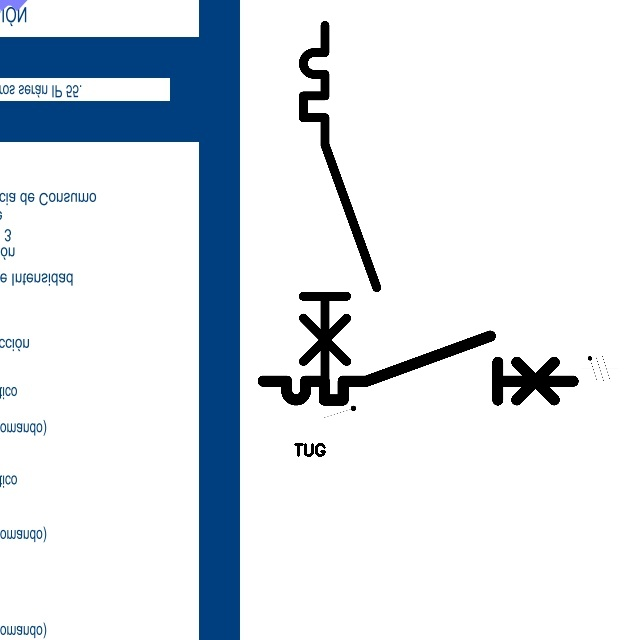interruptor_termomagnetico: (294, 16, 386, 393), (255, 328, 581, 408)
